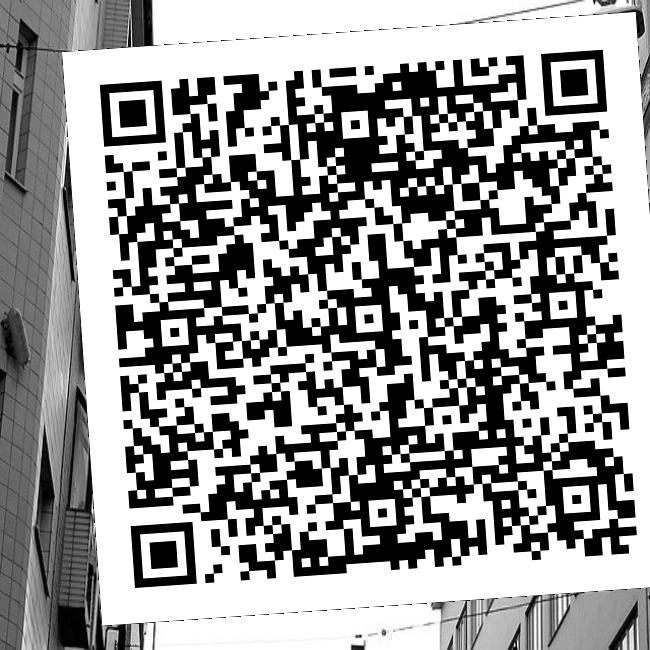qr_code: (62, 25, 649, 612)
